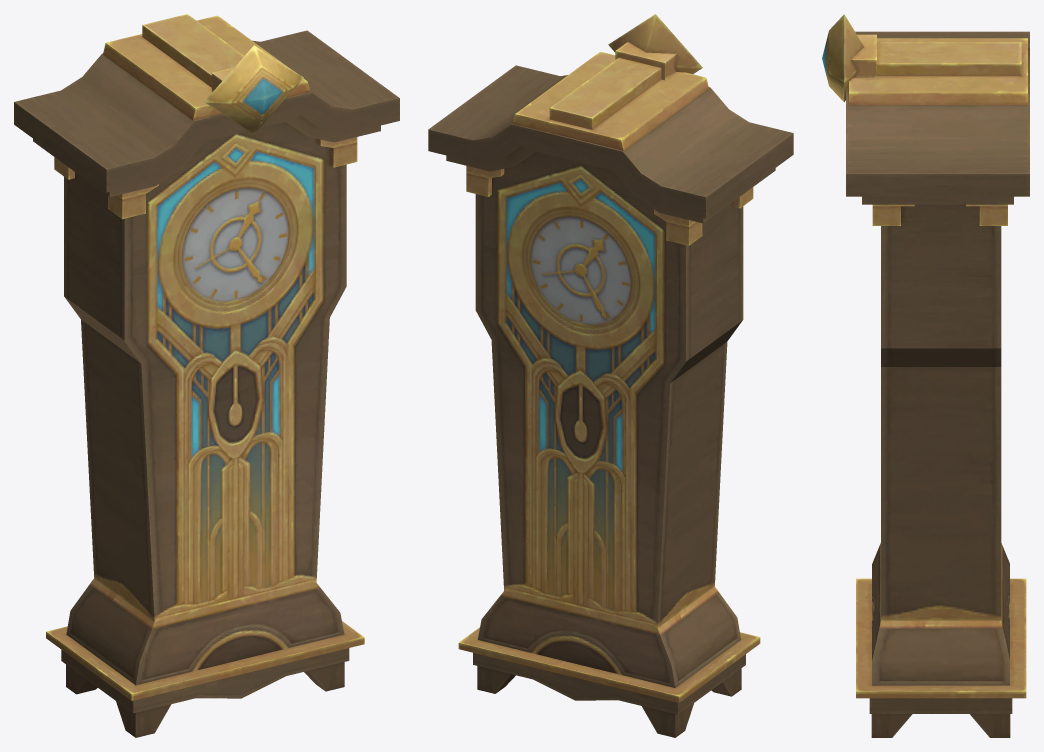
File: Homeworld_Interior_Fd_Decoration_Prop_Zhong_01_Vo.fbx
The picture shows the model from 3 angles, left to right: view 1: azimuth 30°, elevation 25°; view 2: azimuth 150°, elevation 25°; view 3: azimuth 270°, elevation 25°; orthographic projection. The views are drawn at different scales.
Parts seen in each view (by area): view 1: Indoor_Fd_Prop_Zhong_A_02_Vo; view 2: Indoor_Fd_Prop_Zhong_A_02_Vo; view 3: Indoor_Fd_Prop_Zhong_A_02_Vo.
Boxes of the visible parts, x1,y1,x2,y2 form: Indoor_Fd_Prop_Zhong_A_02_Vo: (14,14,399,737); Indoor_Fd_Prop_Zhong_A_02_Vo: (428,14,793,737); Indoor_Fd_Prop_Zhong_A_02_Vo: (822,14,1029,737).
Size of the model in its own units: 1.65 by 3.65 by 1.02.
